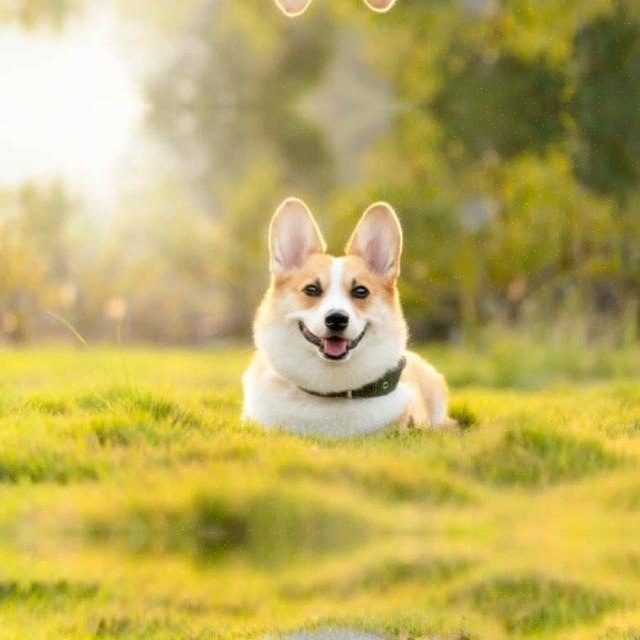dog: (187, 169, 539, 445), (187, 0, 540, 43), (187, 620, 540, 640)
